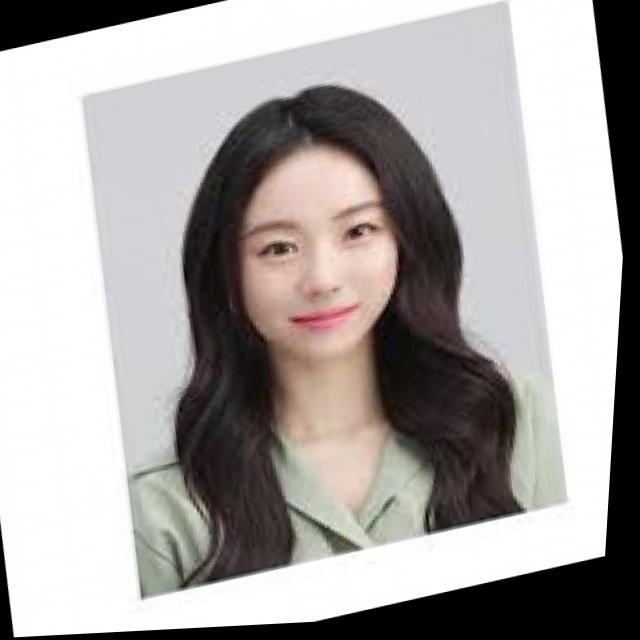Nonhelmet: (190, 80, 446, 363)
